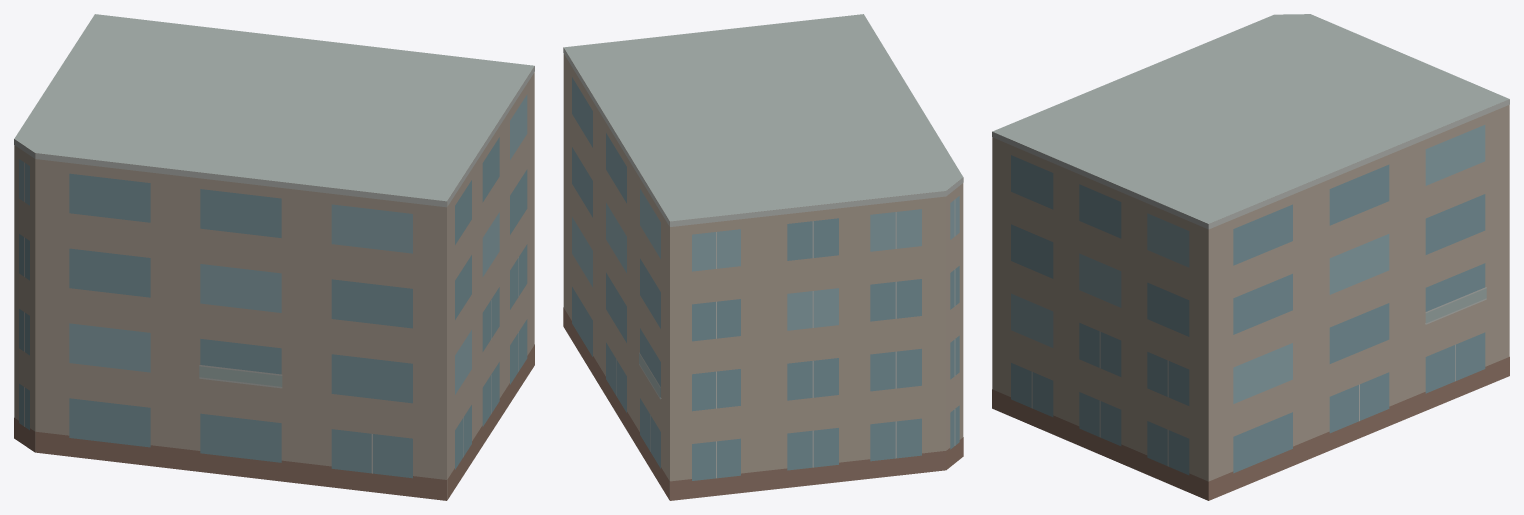
File: survey-upis-32838746.glb
The picture shows the model from 3 angles, left to right: view 1: azimuth 30°, elevation 25°; view 2: azimuth 150°, elevation 25°; view 3: azimuth 270°, elevation 25°; orthographic projection. The views are drawn at different scales.
Visible parts, largest first — view 1: survey-upis-32838746.tmp; view 2: survey-upis-32838746.tmp; view 3: survey-upis-32838746.tmp.
Part boxes in pixels (x1,y1,x2,y2): survey-upis-32838746.tmp: [14, 14, 534, 500]; survey-upis-32838746.tmp: [563, 14, 963, 500]; survey-upis-32838746.tmp: [992, 14, 1509, 500].
Bounding box in the file's own units: 19.85 × 12.2 × 20.68.
